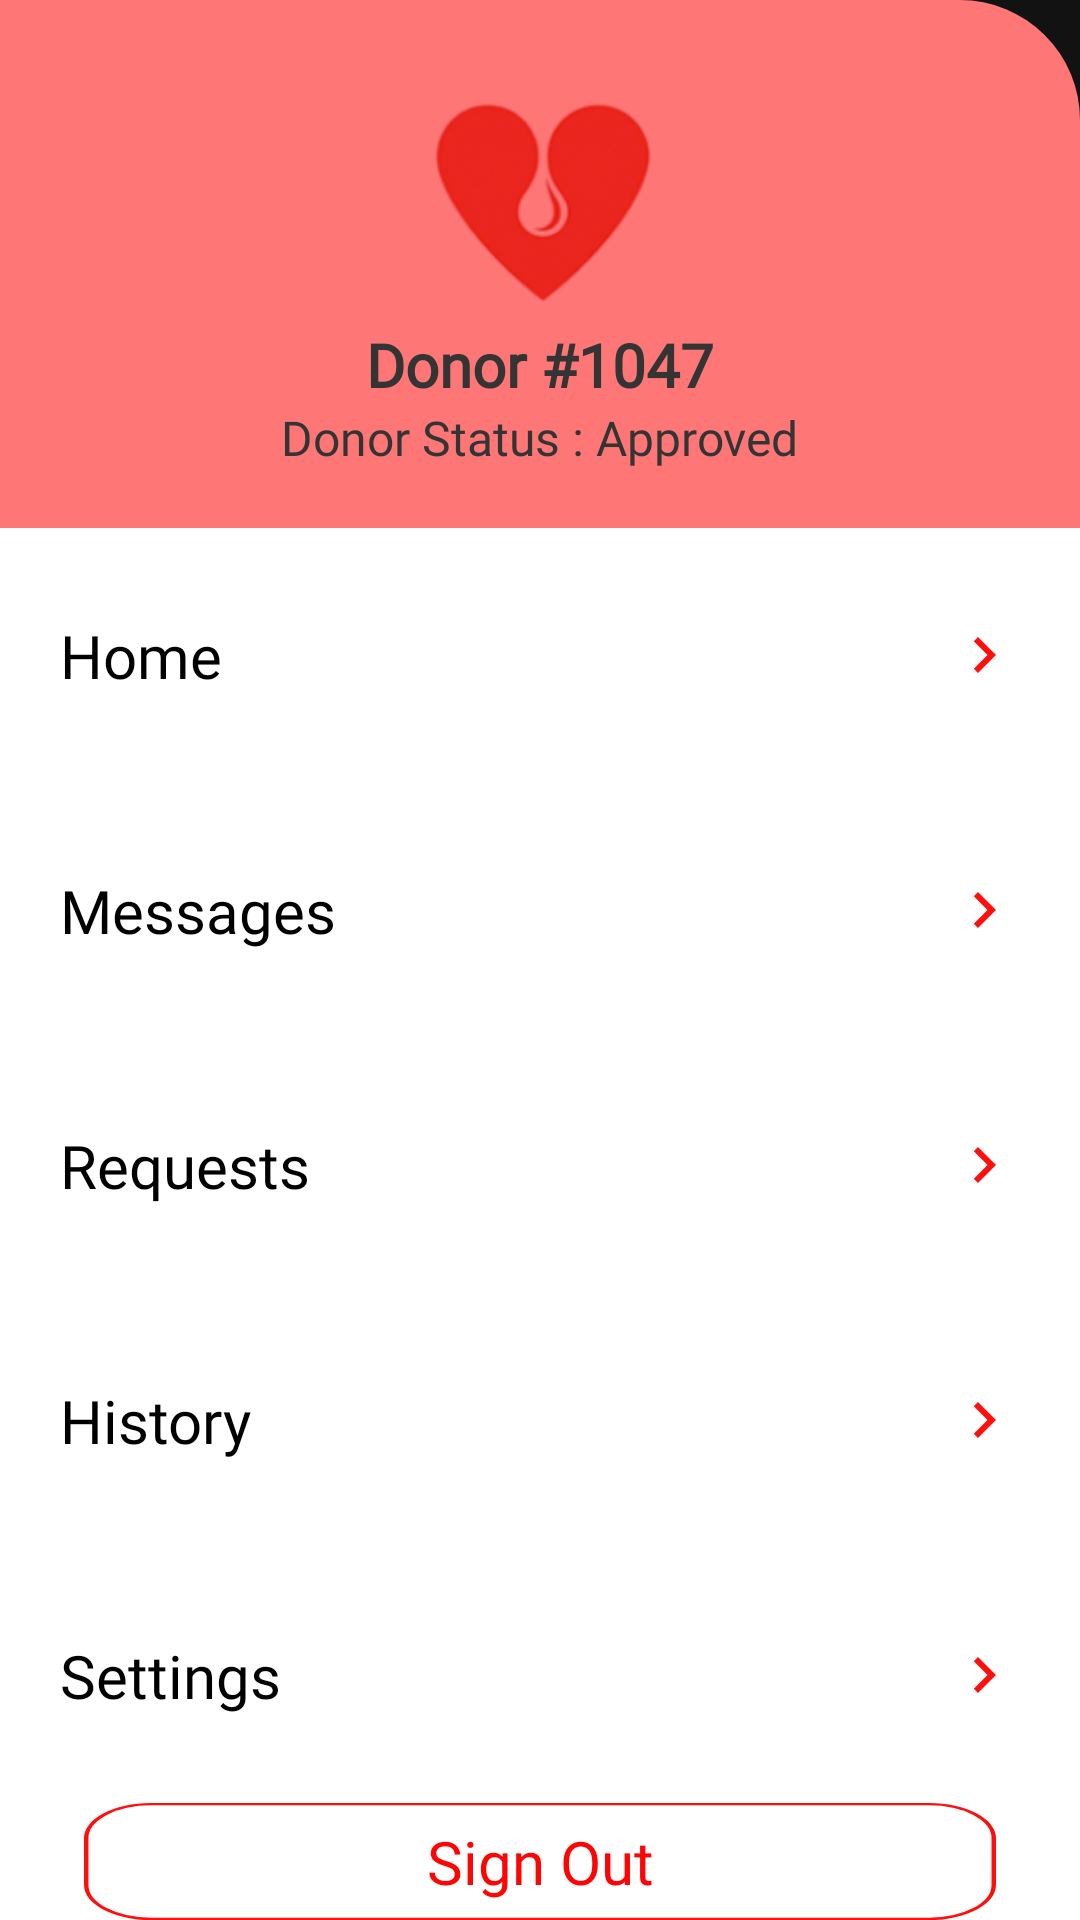

Icon bounding boxes for this 1080×1920 phone screenshot, format (x1, y1, x2, y2):
chevron right: (974, 637, 996, 673), (974, 892, 996, 928), (974, 1147, 996, 1183), (974, 1402, 996, 1438), (974, 1657, 996, 1693)
